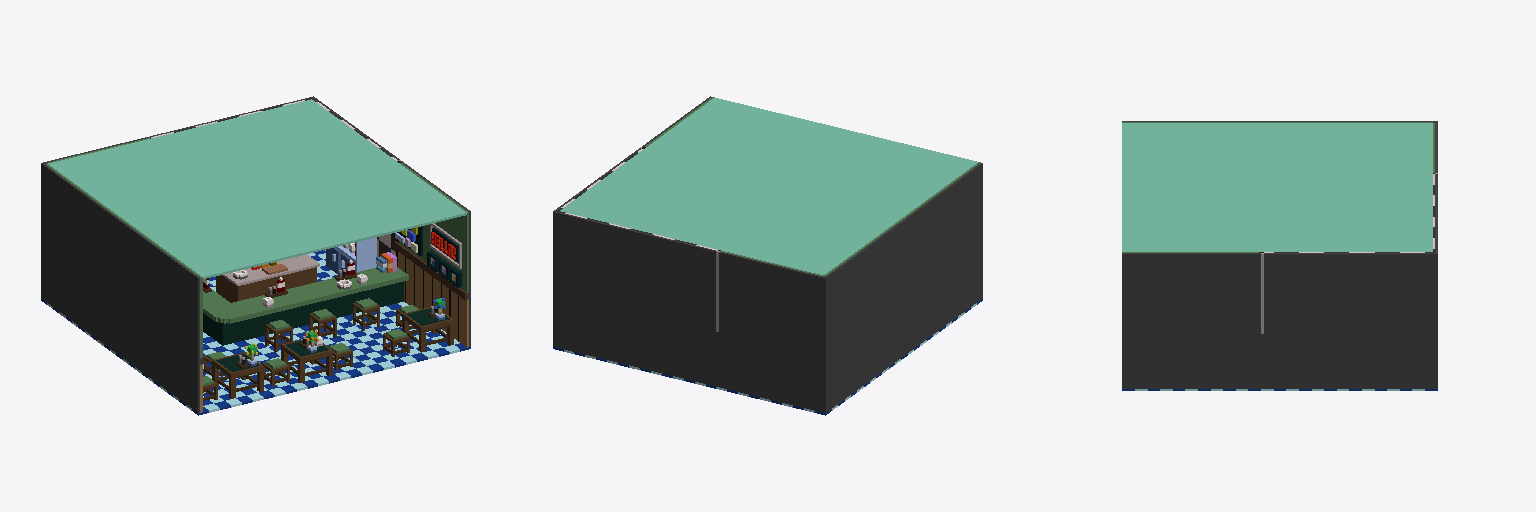
The picture shows the model from 3 angles: view 1: azimuth 30°, elevation 25°; view 2: azimuth 150°, elevation 25°; view 3: azimuth 270°, elevation 25°; orthographic projection.
Visible parts, largest first — view 1: object 1; view 2: object 1; view 3: object 1.
Part boxes in pixels (left/top/right/bottom): object 1: left=41, top=96, right=470, bottom=415; object 1: left=553, top=96, right=982, bottom=415; object 1: left=1122, top=121, right=1437, bottom=390.
Bounding box in the file's own units: 12.5 × 6 × 12.5.
Materials: 1 (1 with a texture image).